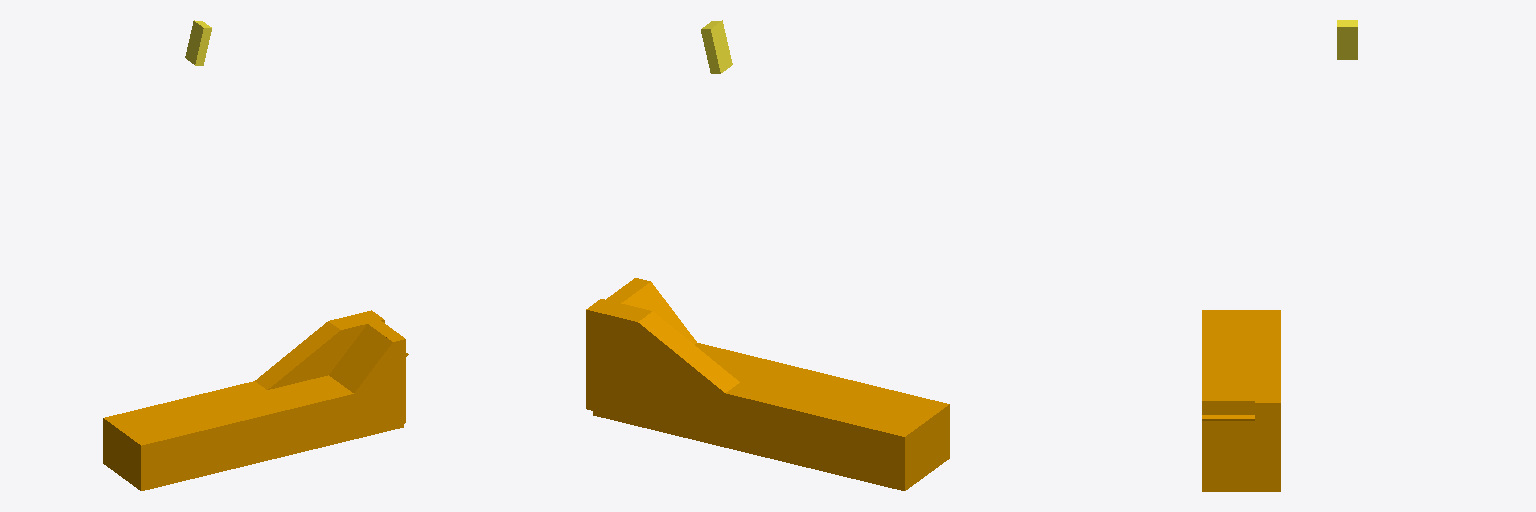
URDF robot description (polaris_ranger_xp900):
<?xml version="1.0" ?>
<robot name="polaris_ranger_xp900">
  <joint name="polaris_ranger_xp900__front_left_steering_joint" type="revolute">
    <parent link="polaris_ranger_xp900__chassis"/>
    <child link="polaris_ranger_xp900__front_left_wheel_steering_block"/>
    <origin rpy="1.57079  0       0" xyz="1.20222  0.5      0.35515"/>
    <axis xyz="0  1  0"/>
    <limit effort="0.0" lower="-0.7727" upper="0.7727" velocity="0.0"/>
  </joint>

  <joint name="polaris_ranger_xp900__front_left_wheel_joint" type="continuous"> 
    <parent link="polaris_ranger_xp900__front_left_wheel_steering_block"/>
    <child link="polaris_ranger_xp900__front_left_wheel"/>
    <origin rpy="-3.09079  0       0" xyz="0      -0.00818 -0.21562"/>
    <axis xyz="0.00000000e+00   8.30000000e-04   1.00000000e+00"/>
    <limit effort="0" lower="0" upper="0" velocity="0"/>
  </joint>
  <joint name="polaris_ranger_xp900__front_right_steering_joint" type="revolute">
    <parent link="polaris_ranger_xp900__chassis"/>
    <child link="polaris_ranger_xp900__front_right_wheel_steering_block"/>
    <origin rpy="1.57079  0       0" xyz="1.20222 -0.5      0.35515"/>
    <axis xyz="0  1  0"/>
    <limit effort="0.0" lower="-0.7727" upper="0.7727" velocity="0.0"/>
  </joint>




  <joint name="polaris_ranger_xp900__front_right_wheel_joint" type="continuous">
    <parent link="polaris_ranger_xp900__front_right_wheel_steering_block"/>
    <child link="polaris_ranger_xp900__front_right_wheel"/>
    <origin rpy="-0.05079  0       0" xyz="0      -0.00818  0.21562"/>
    <axis xyz="0.00000000e+00   8.30000000e-04  -1.00000000e+00"/>
    <limit effort="0" lower="0" upper="0" velocity="0"/>
  </joint>

  <joint name="polaris_ranger_xp900__rear_left_wheel_joint" type="continuous">
    <parent link="polaris_ranger_xp900__chassis"/>
    <child link="polaris_ranger_xp900__rear_left_wheel"/>
    <origin rpy="-1.52  0    0" xyz="-0.99377  0.71562  0.34697"/>
    <axis xyz="0.00000000e+00   8.30000000e-04   1.00000000e+00"/>
    <limit effort="0" lower="0" upper="0" velocity="0"/>
  </joint>

  <joint name="polaris_ranger_xp900__rear_right_wheel_joint" type="continuous">
    <parent link="polaris_ranger_xp900__chassis"/>
    <child link="polaris_ranger_xp900__rear_right_wheel"/>
    <origin rpy="1.52  0    0" xyz="-0.99377 -0.61574  0.34189"/>
    <axis xyz="0.00000000e+00   8.30000000e-04  -1.00000000e+00"/>
    <limit effort="0" lower="0" upper="0" velocity="0"/>
  </joint>








  
  <joint name="polaris_ranger_xp900__gas_joint" type="fixed">
    <parent link="polaris_ranger_xp900__chassis"/>
    <child link="polaris_ranger_xp900__gas_pedal"/>
    <origin rpy="0  0  0" xyz="0.63     0.1      0.57999"/>
    <axis xyz="0.7071  0     -0.7071"/>
    <limit effort="0.0" lower="0.0" upper="0.08" velocity="0.0"/>
  </joint>
  
  <joint name="polaris_ranger_xp900__brake_joint" type="fixed">
    <parent link="polaris_ranger_xp900__chassis"/>
    <child link="polaris_ranger_xp900__brake_pedal"/>
    <origin rpy="0  0  0" xyz="0.64     0.27     0.57999"/>
    <axis xyz="0.85749  0      -0.51449"/>
    <limit effort="0.0" lower="0.0" upper="0.08" velocity="0.0"/>
  </joint>
  
  <joint name="polaris_ranger_xp900__steering_joint" type="fixed">
    <parent link="polaris_ranger_xp900__chassis"/>
    <child link="polaris_ranger_xp900__steering_wheel"/>
    <origin rpy="0   -0.87  0" xyz="0.42  0.46  1.2"/>
    <axis xyz="0  0  1"/>
    <limit effort="0.0" lower="-3.14" upper="3.14" velocity="0.0"/>
  </joint>

  <joint name="polaris_ranger_xp900__hand_brake_joint" type="fixed">
    <parent link="polaris_ranger_xp900__chassis"/>
    <child link="polaris_ranger_xp900__hand_brake"/>
    <origin rpy="0  0  0" xyz="0.53   0.205  1.05"/>
    <axis xyz="0 -1  0"/>
    <limit effort="0.0" lower="0.0" upper="0.6" velocity="0.0"/>
  </joint>

  <joint name="polaris_ranger_xp900__FNR_switch_joint" type="fixed">
    <parent link="polaris_ranger_xp900__chassis"/>
    <child link="polaris_ranger_xp900__FNR_switch"/>
    <origin rpy="0    0.25  0" xyz="0.54     0.1      1.14999"/>
    <axis xyz="0 -1  0"/>
    <limit effort="0.0" lower="-0.3" upper="0.3" velocity="0.0"/>
  </joint>
  <link name="polaris_ranger_xp900__chassis">
    <inertial>
      <mass value="720.0"/>
      <origin rpy="0  0  0" xyz="0.1  0   0.4"/>
      <inertia ixx="140" ixy="0.0" ixz="0.0" iyy="550" iyz="0.0" izz="550"/>
    </inertial>
    <collision name="polaris_ranger_xp900__chassis_bottom">
      <origin rpy="0  0  0" xyz="0.2    0     0.335"/>
      <geometry>
        <box size="1.34 1.65746 0.06"/>
      </geometry>
    </collision>
    <collision name="polaris_ranger_xp900__cargo_bottom">
      <origin rpy="0  0  0" xyz="-1     0     0.921"/>
      <geometry>
        <box size="1.04609 1.6998 0.01"/>
      </geometry>
    </collision>
    <collision name="polaris_ranger_xp900__cargo_front">
      <origin rpy="0  0  0" xyz="-0.495  0     1.06"/>
      <geometry>
        <box size="0.05 1.69982 0.27"/>
      </geometry>
    </collision>
    <collision name="polaris_ranger_xp900__cargo_back">
      <origin rpy="0  0  0" xyz="-1.465  0     1.06"/>
      <geometry>
        <box size="0.05 1.69982 0.27"/>
      </geometry>
    </collision>
    <collision name="polaris_ranger_xp900__cargo_left">
      <origin rpy="0  0  0" xyz="-0.97     0.82491  1.06"/>
      <geometry>
        <box size="1.04609 0.05 0.27"/>
      </geometry>
    </collision>
    <collision name="polaris_ranger_xp900__cargo_right">
      <origin rpy="0  0  0" xyz="-0.97    -0.82491  1.06"/>
      <geometry>
        <box size="1.04609 0.05 0.27"/>
      </geometry>
    </collision>
    <collision name="polaris_ranger_xp900__seat">
      <origin rpy="0  0  0" xyz="0    0    0.62"/>
      <geometry>
        <box size="0.52167 1.37206 0.53369"/>
      </geometry>
    </collision>
    <collision name="polaris_ranger_xp900__mud_seat">
      <origin rpy="0  0  0" xyz="0    0    0.86"/>
      <geometry>
        <box size="0.52167 1.30 0.1"/>
      </geometry>
    </collision>
    <collision name="polaris_ranger_xp900__seat_back">
      <origin rpy="0  -0.2  0" xyz="-0.26   0     1.125"/>
      <geometry>
        <box size="0.06 1.37206 0.6"/>
      </geometry>
    </collision>
    <collision name="polaris_ranger_xp900__engine">
      <origin rpy="0  0  0" xyz="1.12  0    0.7"/>
      <geometry>
        <box size="0.58 1.3 0.8"/>
      </geometry>
    </collision>
    <collision name="polaris_ranger_xp900__central_hump1_collision">
      <origin rpy="0  0  0" xyz="0.55 -0.1   0.4"/>
      <geometry>
        <box size="0.6 0.15 0.1"/>
      </geometry>
    </collision>
    <collision name="polaris_ranger_xp900__central_hump2_collision">
      <origin rpy="0  -0.5  0" xyz="0.7  -0.05  0.45"/>
      <geometry>
        <box size="0.20 0.05 0.1"/>
      </geometry>
    </collision>
    <collision name="polaris_ranger_xp900__central_hump3_collision">
      <origin rpy="0  -0.8  0" xyz="0.798 -0.125  0.478"/>
      <geometry>
        <box size="0.129 0.1 0.05"/>
      </geometry>
    </collision>
    <collision name="polaris_ranger_xp900__central_hump4_collision">
      <origin rpy="0  0  0" xyz="0.8135 -0.05    0.45"/>
      <geometry>
        <box size="0.10 0.05 0.1835"/>
      </geometry>
    </collision>
    <collision name="polaris_ranger_xp900__central_hump5_collision">
      <origin rpy="0  0  0" xyz="0.84  -0.125  0.45"/>
      <geometry>
        <box size="0.03 0.1 0.1835"/>
      </geometry>
    </collision>
    <collision name="polaris_ranger_xp900__central_hump6_collision">
      <origin rpy="0  0  0" xyz="0.82  -0.125  0.475"/>
      <geometry>
        <box size="0.03 0.1 0.05"/>
      </geometry>
    </collision>
    <visual name="polaris_ranger_xp900__visual">
      <origin rpy="0       0      -1.57079" xyz="0  0  0"/>
      <geometry>
        <mesh filename="package://meshes/chasis.dae" scale="1.0 1.0 1.0"/>
      </geometry>
    </visual>
    <visual name="polaris_ranger_xp900__cargo_visual">
      <origin rpy="0      0     -1.5707" xyz="-1      0      1.0323"/>
      <geometry>
        <mesh filename="package://meshes/polaris.dae OR meshes/polaris.dae OR meshes/polaris.dae" scale="1.0 1.0 1.0"/>
      </geometry>
    </visual>
    <visual name="polaris_ranger_xp900__tailgate_visual">
      <origin rpy="0      0     -1.5707" xyz="-1.492  0     1.03"/>
      <geometry>
        <mesh filename="package://meshes/polaris.dae OR meshes/polaris.dae OR meshes/polaris.dae" scale="1.0 1.0 1.0"/>
      </geometry>
    </visual>
    <visual name="polaris_ranger_xp900__front_left_brake_visual">
      <origin rpy="3.1415  0      1.5707" xyz="1.12    -0.57487  0.35516"/>
      <geometry>
        <mesh filename="package://meshes/polaris.dae OR meshes/polaris.dae OR meshes/polaris.dae" scale="1.0 1.0 1.0"/>
      </geometry>
    </visual>
    <visual name="polaris_ranger_xp900__front_right_brake_visual">
      <origin rpy="3.1415  0      1.5707" xyz="1.12     0.57487  0.35516"/>
      <geometry>
        <mesh filename="package://meshes/polaris.dae OR meshes/polaris.dae OR meshes/polaris.dae" scale="1.0 1.0 1.0"/>
      </geometry>
    </visual>
    <visual name="polaris_ranger_xp900__central_hump1">
      <origin rpy="0  0  0" xyz="0.55 -0.1   0.4"/>
      <geometry>
        <box size="0.6 0.15 0.1"/>
      </geometry>
    </visual>
    <visual name="polaris_ranger_xp900__central_hump2">
      <origin rpy="0  -0.5  0" xyz="0.7  -0.05  0.45"/>
      <geometry>
        <box size="0.20 0.05 0.1"/>
      </geometry>
    </visual>
    <visual name="polaris_ranger_xp900__central_hump3">
      <origin rpy="0  -0.8  0" xyz="0.798 -0.125  0.478"/>
      <geometry>
        <box size="0.129 0.1 0.05"/>
      </geometry>
    </visual>
    <visual name="polaris_ranger_xp900__central_hump4">
      <origin rpy="0  0  0" xyz="0.8135 -0.05    0.45"/>
      <geometry>
        <box size="0.10 0.05 0.1835"/>
      </geometry>
    </visual>
    <visual name="polaris_ranger_xp900__central_hump5">
      <origin rpy="0  0  0" xyz="0.84  -0.125  0.45"/>
      <geometry>
        <box size="0.03 0.1 0.1835"/>
      </geometry>
    </visual>
    <visual name="polaris_ranger_xp900__central_hump6">
      <origin rpy="0  0  0" xyz="0.82  -0.125  0.475"/>
      <geometry>
        <box size="0.03 0.1 0.05"/>
      </geometry>
    </visual>
  </link>
  <link name="polaris_ranger_xp900__front_left_wheel">
    <inertial>
      <mass value="12"/>
      <origin rpy="0  0  0" xyz="0  0  0"/>
      <inertia ixx="0.5" ixy="0.0" ixz="0.0" iyy="0.5" iyz="0.0" izz="1.0"/>
    </inertial>
    <collision name="polaris_ranger_xp900__collision">
      <origin rpy="0  0  0" xyz="0  0  0"/>
      <geometry>
        <cylinder length="0.2794" radius="0.3175"/>
      </geometry>
    </collision>
    <visual name="polaris_ranger_xp900__tire_visual">
      <origin rpy="3.14159  1.57079  0" xyz="0  0  0"/>
      <geometry>
        <mesh filename="package://meshes/polaris.dae OR meshes/polaris.dae OR meshes/polaris.dae" scale="1.003700111 0.886200464 0.886200464"/>
      </geometry>
    </visual>
  </link>
  <link name="polaris_ranger_xp900__front_right_wheel">
    <inertial>
      <mass value="12"/>
      <origin rpy="0  0  0" xyz="0  0  0"/>
      <inertia ixx="0.5" ixy="0.0" ixz="0.0" iyy="0.5" iyz="0.0" izz="1.0"/>
    </inertial>
    <collision name="polaris_ranger_xp900__collision">
      <origin rpy="0  0  0" xyz="0  0  0"/>
      <geometry>
        <cylinder length="0.2794" radius="0.3175"/>
      </geometry>
    </collision>
    <visual name="polaris_ranger_xp900__visual">
      <origin rpy="0      -1.57079  0" xyz="0  0  0"/>
      <geometry>
        <mesh filename="package://meshes/polaris.dae OR meshes/polaris.dae OR meshes/polaris.dae" scale="1.003700111 0.886200464 0.886200464"/>
      </geometry>
    </visual>
  </link>
  <link name="polaris_ranger_xp900__rear_left_wheel">
    <inertial>
      <mass value="12"/>
      <origin rpy="0  0  0" xyz="0  0  0"/>
      <inertia ixx="0.5" ixy="0.0" ixz="0.0" iyy="0.5" iyz="0.0" izz="1.0"/>
    </inertial>
    <collision name="polaris_ranger_xp900__collision">
      <origin rpy="0  0  0" xyz="0  0  0"/>
      <geometry>
        <cylinder length="0.2794" radius="0.3175"/>
      </geometry>
    </collision>
    <visual name="polaris_ranger_xp900__visual">
      <origin rpy="0      -1.57079  0" xyz="0  0  0"/>
      <geometry>
        <mesh filename="package://meshes/polaris.dae OR meshes/polaris.dae OR meshes/polaris.dae" scale="1.003700111 0.886200464 0.886200464"/>
      </geometry>
    </visual>
  </link>
  <link name="polaris_ranger_xp900__rear_right_wheel">
    <inertial>
      <mass value="12"/>
      <origin rpy="0  0  0" xyz="0  0  0"/>
      <inertia ixx="0.5" ixy="0.0" ixz="0.0" iyy="0.5" iyz="0.0" izz="1.0"/>
    </inertial>
    <collision name="polaris_ranger_xp900__collision">
      <origin rpy="0  0  0" xyz="0  0  0"/>
      <geometry>
        <cylinder length="0.2794" radius="0.3175"/>
      </geometry>
    </collision>
    <visual name="polaris_ranger_xp900__visual">
      <origin rpy="0      -1.57079  0" xyz="0  0  0"/>
      <geometry>
        <mesh filename="package://meshes/polaris.dae OR meshes/polaris.dae OR meshes/polaris.dae" scale="1.003700111 0.886200464 0.886200464"/>
      </geometry>
    </visual>
  </link>
  <link name="polaris_ranger_xp900__gas_pedal">
    <inertial>
      <mass value="0.1"/>
      <origin rpy="0  0  0" xyz="0  0  0"/>
      <inertia ixx="0.01" ixy="0" ixz="0" iyy="0.01" iyz="0" izz="0.01"/>
    </inertial>
    <collision name="polaris_ranger_xp900__gas_pedal_collision">
      <origin rpy="3.14159  1.12559  3.14159" xyz="-0.0385  0     -0.086"/>
      <geometry>
        <box size="0.1069000 0.0770000 0.010000"/>
      </geometry>
    </collision>
    <visual name="polaris_ranger_xp900__visual">
      <origin rpy="0      0     -1.5707" xyz="0  0  0"/>
      <geometry>
        <mesh filename="package://meshes/polaris.dae OR meshes/polaris.dae OR meshes/polaris.dae" scale="1.0 1.0 1.0"/>
      </geometry>
    </visual>
  </link>
  <link name="polaris_ranger_xp900__brake_pedal">
    <inertial>
      <mass value="0.1"/>
      <origin rpy="0  0  0" xyz="0  0  0"/>
      <inertia ixx="0.01" ixy="0" ixz="0" iyy="0.01" iyz="0" izz="0.01"/>
    </inertial>
    <collision name="polaris_ranger_xp900__brake_pedal_collision">
      <origin rpy="3.14159  1.14259  3.14159" xyz="-0.04   0    -0.086"/>
      <geometry>
        <box size="0.063 0.08 0.01"/>
      </geometry>
    </collision>
    <visual name="polaris_ranger_xp900__visual">
      <origin rpy="0      0     -1.5707" xyz="0  0  0"/>
      <geometry>
        <mesh filename="package://meshes/polaris.dae OR meshes/polaris.dae OR meshes/polaris.dae" scale="1.0 1.0 1.0"/>
      </geometry>
    </visual>
  </link>
  <link name="polaris_ranger_xp900__front_right_wheel_steering_block">
    <inertial>
      <mass value="1"/>
      <origin rpy="0  0  0" xyz="0  0  0"/>
      <inertia ixx="1.0" ixy="0.0" ixz="0.0" iyy="1.0" iyz="0.0" izz="1.0"/>
    </inertial>
    <collision name="polaris_ranger_xp900__collision">
      <origin rpy="0  0  0" xyz="0  0  0"/>
      <geometry>
        <cylinder length="0.01" radius="0.05"/>
      </geometry>
    </collision>
  </link>
  <link name="polaris_ranger_xp900__front_left_wheel_steering_block">
    <inertial>
      <mass value="1"/>
      <origin rpy="0  0  0" xyz="0  0  0"/>
      <inertia ixx="1.0" ixy="0.0" ixz="0.0" iyy="1.0" iyz="0.0" izz="1.0"/>
    </inertial>
    <collision name="polaris_ranger_xp900__collision">
      <origin rpy="0  0  0" xyz="0  0  0"/>
      <geometry>
        <cylinder length="0.01" radius="0.05"/>
      </geometry>
    </collision>
  </link>
  <link name="polaris_ranger_xp900__steering_wheel">
    <inertial>
      <mass value="1.0"/>
      <origin rpy="0  0  0" xyz="-0.002  0     0"/>
      <inertia ixx="0.012" ixy="0" ixz="0" iyy="0.012" iyz="0" izz="0.024"/>
    </inertial>
    <collision name="polaris_ranger_xp900__collision">
      <origin rpy="-0.6108   0      -1.57079" xyz="-0.03     0      -0.12082"/>
      <geometry>
        <mesh filename="package://meshes/polaris.dae OR meshes/polaris.dae OR meshes/polaris.dae" scale="1.0 1.0 1.0"/>
      </geometry>
    </collision>
    <visual name="polaris_ranger_xp900__visual">
      <origin rpy="-0.6108   0      -1.57079" xyz="-0.03     0      -0.12082"/>
      <geometry>
        <mesh filename="package://meshes/polaris.dae OR meshes/polaris.dae OR meshes/polaris.dae" scale="1.0 1.0 1.0"/>
      </geometry>
    </visual>
  </link>
  <link name="polaris_ranger_xp900__hand_brake">
    <inertial>
      <mass value="0.5"/>
      <origin rpy="0  0  0" xyz="0  0  0"/>
      <inertia ixx="0.1" ixy="0" ixz="0" iyy="0.1" iyz="0" izz="0.05"/>
    </inertial>
    <collision name="polaris_ranger_xp900__hand_brake_collision">
      <origin rpy="-0.2      0      -1.57079" xyz="0    0    0.05"/>
      <geometry>
        <mesh filename="package://meshes/polaris.dae OR meshes/polaris.dae OR meshes/polaris.dae" scale="1.0 1.0 1.0"/>
      </geometry>
    </collision>
    <visual name="polaris_ranger_xp900__hand_brake_visual">
      <origin rpy="-0.2      0      -1.57079" xyz="0    0    0.05"/>
      <geometry>
        <mesh filename="package://meshes/polaris.dae OR meshes/polaris.dae OR meshes/polaris.dae" scale="1.0 1.0 1.0"/>
      </geometry>
    </visual>
  </link>
  <link name="polaris_ranger_xp900__FNR_switch">
    <inertial>
      <mass value="0.1"/>
      <origin rpy="0  0  0" xyz="0  0  0"/>
      <inertia ixx="0.1" ixy="0" ixz="0" iyy="0.00006" iyz="0" izz="0.1"/>
    </inertial>
    <collision name="polaris_ranger_xp900__FNR_switch">
      <origin rpy="0  0  0" xyz="0  0  0"/>
      <geometry>
        <box size="0.02 0.04 0.08"/>
      </geometry>
    </collision>
    <visual name="polaris_ranger_xp900__FNR_switch_F">
      <origin rpy="0  0  0" xyz="0  0  0"/>
      <geometry>
        <box size="0.02 0.04 0.08"/>
      </geometry>
    </visual>
    <visual name="polaris_ranger_xp900__FNR_switch_R">
      <origin rpy="0  0  0" xyz="0  0  0"/>
      <geometry>
        <box size="0.0199 0.0399 0.0799"/>
      </geometry>
    </visual>
  </link>
</robot>

--- Facts derived from the render (not from the file) ---
Views: 3 orthographic renders of the robot side by side, from view 1: azimuth 30°, elevation 25°; view 2: azimuth 150°, elevation 25°; view 3: azimuth 270°, elevation 25°.
Model polaris_ranger_xp900 with 12 links and 11 joints (2 revolute, 4 continuous, 5 fixed), rooted at polaris_ranger_xp900__chassis, posed all joints at 0.
Visible links, largest first — view 1: polaris_ranger_xp900__chassis, polaris_ranger_xp900__FNR_switch; view 2: polaris_ranger_xp900__chassis, polaris_ranger_xp900__FNR_switch; view 3: polaris_ranger_xp900__chassis, polaris_ranger_xp900__FNR_switch.
Link boxes in pixels (<box>): polaris_ranger_xp900__chassis: <box>103,310,408,490</box>; polaris_ranger_xp900__FNR_switch: <box>185,20,211,65</box>; polaris_ranger_xp900__chassis: <box>586,278,949,490</box>; polaris_ranger_xp900__FNR_switch: <box>701,20,732,73</box>; polaris_ranger_xp900__chassis: <box>1202,310,1280,491</box>; polaris_ranger_xp900__FNR_switch: <box>1337,20,1357,59</box>.
Size in the robot's own frame: 0.6135 by 0.295 by 0.8412 metres.
0 mesh visuals loaded from 2 distinct referenced files (none loaded); not drawn: 13 (reference not matched to a file when rendering).